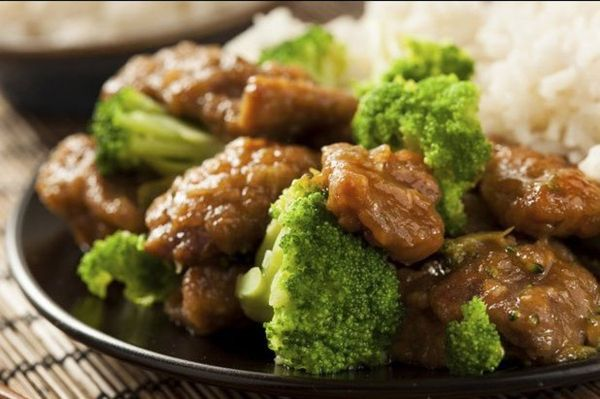curry: (236, 175, 407, 377), (350, 36, 493, 236), (87, 86, 224, 183), (75, 230, 181, 308), (259, 25, 360, 90), (444, 297, 505, 377)
